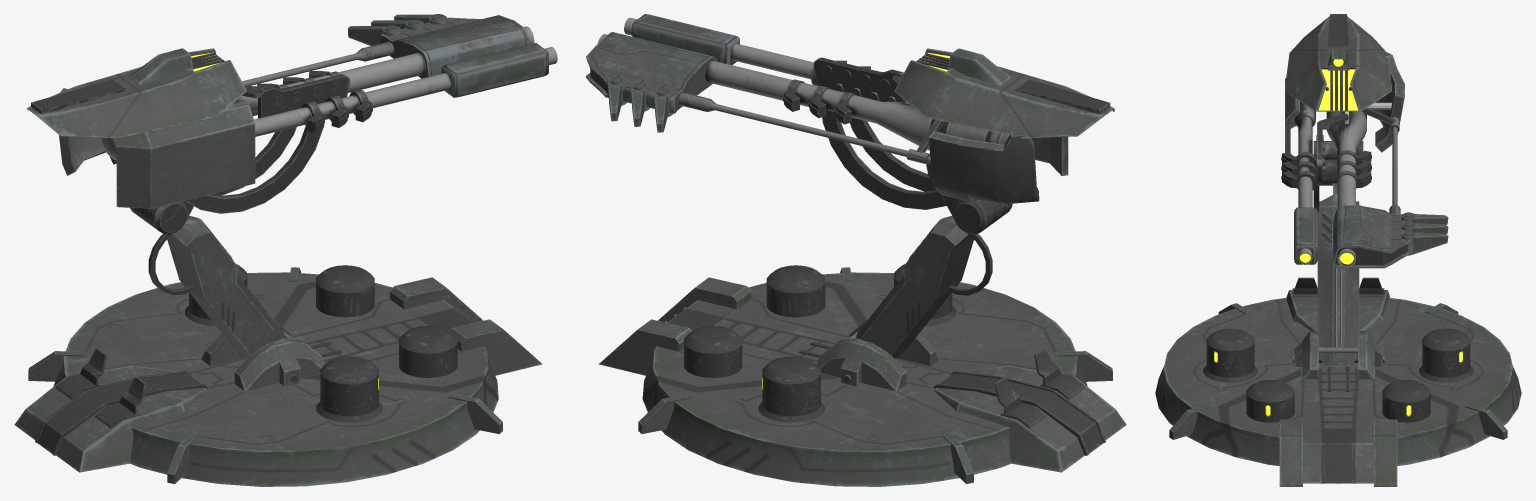
The picture shows the model from 3 angles, left to right: view 1: azimuth 30°, elevation 25°; view 2: azimuth 150°, elevation 25°; view 3: azimuth 270°, elevation 25°; orthographic projection. The views are drawn at different scales.
Parts seen in each view (by area): view 1: Turret3; view 2: Turret3; view 3: Turret3.
Part boxes in pixels (x1,y1,x2,y2): Turret3: (14,14,557,486); Turret3: (586,14,1126,486); Turret3: (1155,14,1521,486).
Size of the model in its own units: 201 by 140 by 155.
Materials: 1 (1 with a texture image).
